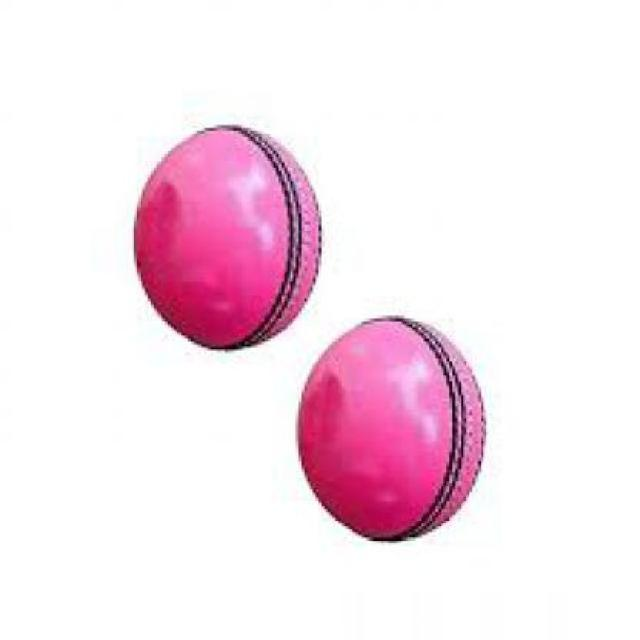ball: (128, 102, 351, 356)
